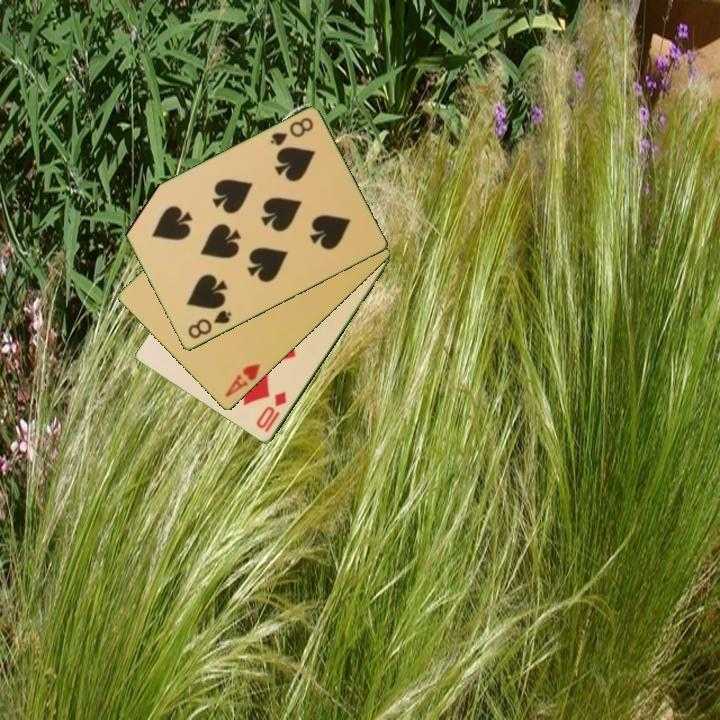10d: (252, 388, 290, 436)
8s: (184, 307, 234, 342), (267, 114, 316, 149)
Ah: (221, 360, 263, 401)
